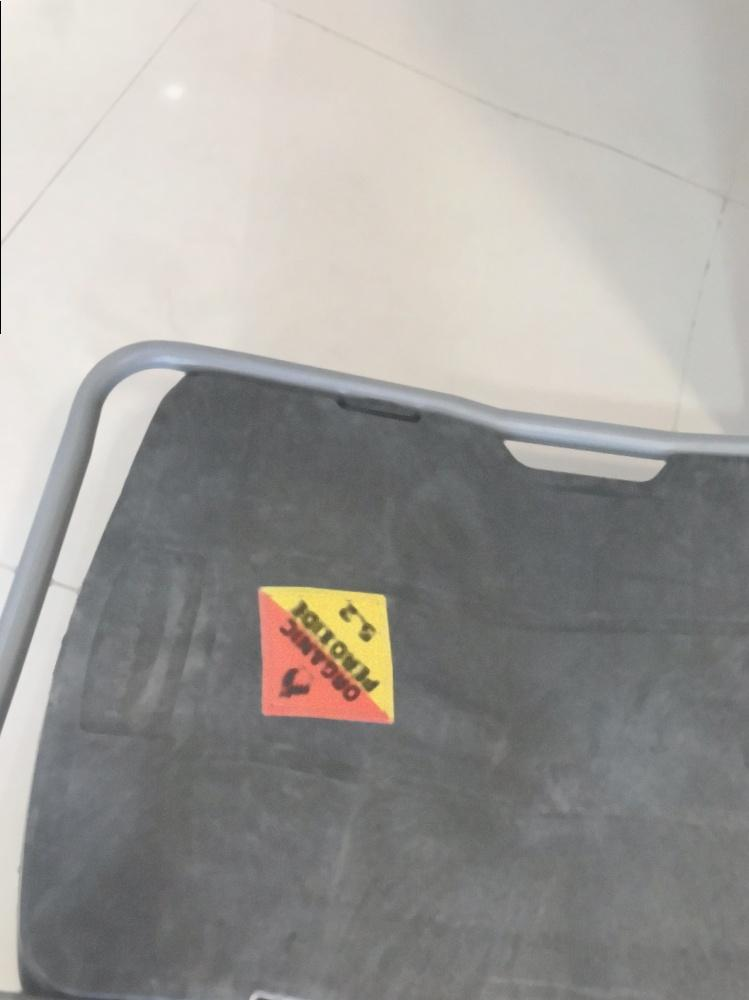organic-peroxide: (252, 583, 397, 729)
